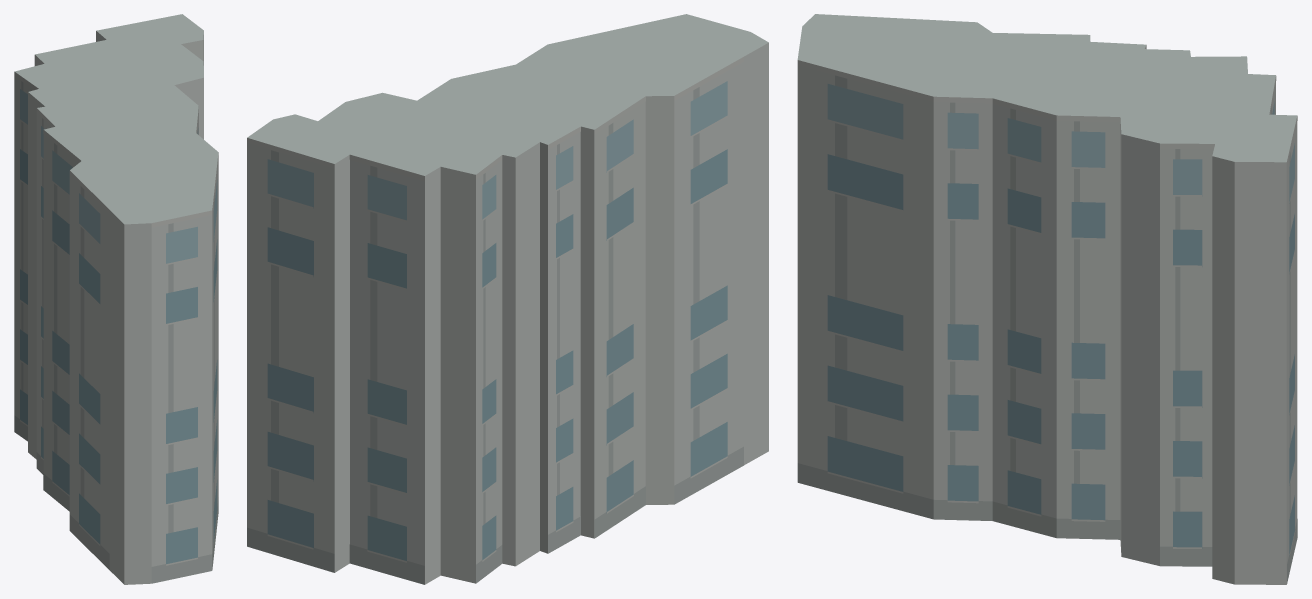
File: survey-upis-32951930.glb
3 views of the same model, side by side, from view 1: azimuth 30°, elevation 25°; view 2: azimuth 150°, elevation 25°; view 3: azimuth 270°, elevation 25° (orthographic). The views are drawn at different scales.
Visible parts, largest first — view 1: survey-upis-32951930.tmp; view 2: survey-upis-32951930.tmp; view 3: survey-upis-32951930.tmp.
Part boxes in pixels (x1=…): survey-upis-32951930.tmp: x1=14, y1=14, x2=218, y2=584; survey-upis-32951930.tmp: x1=247, y1=14, x2=768, y2=584; survey-upis-32951930.tmp: x1=797, y1=14, x2=1297, y2=584.
Bounding box in the file's own units: 14.44 × 19.2 × 20.59.
